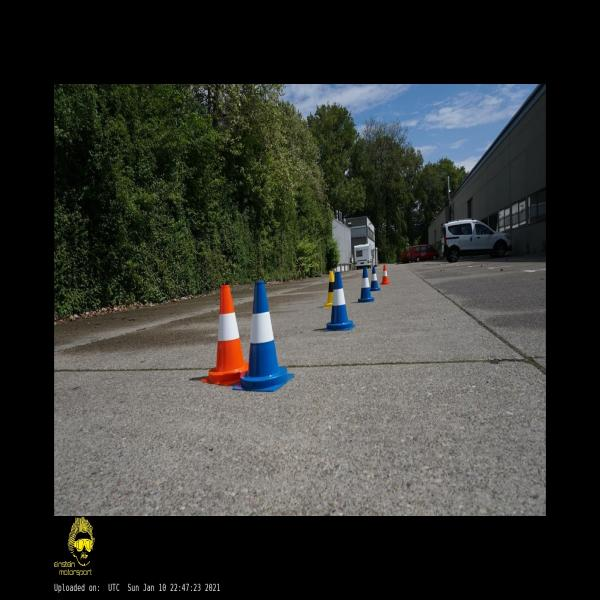blue_cone: (232, 282, 294, 392), (324, 271, 355, 331), (357, 267, 375, 302), (370, 267, 381, 291)
orange_cone: (201, 285, 248, 386), (380, 265, 391, 285)
yellow_cone: (324, 271, 334, 308)
